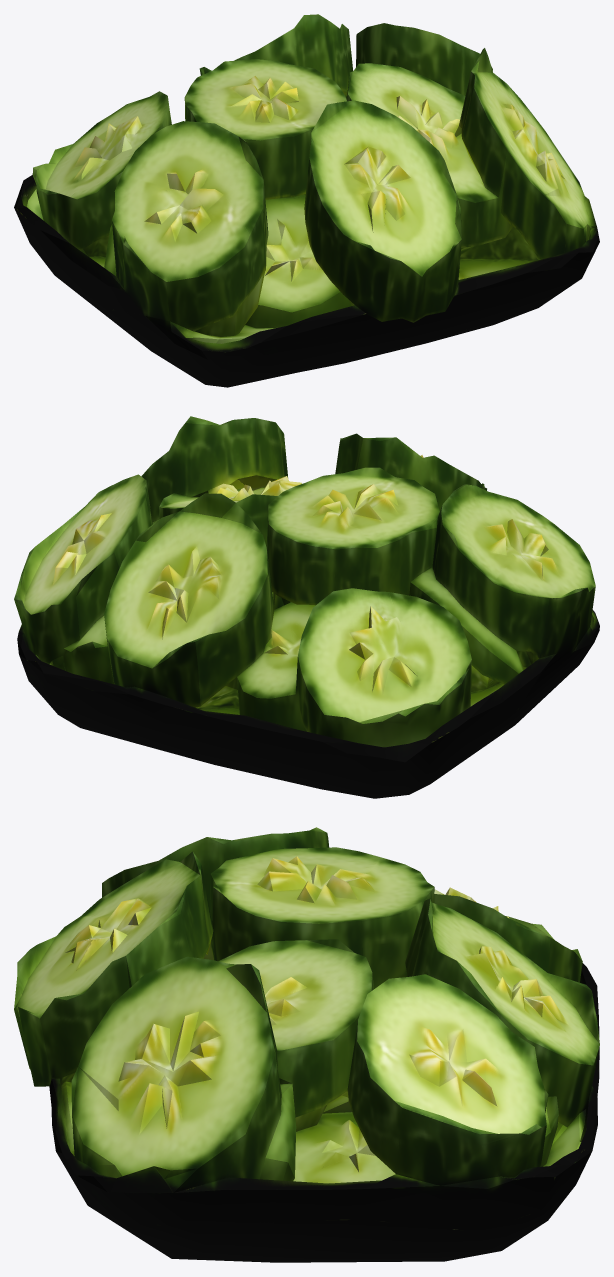
File: Cucumber.glb
3 renders of one model, top to bottom at view 1: azimuth 30°, elevation 25°; view 2: azimuth 150°, elevation 25°; view 3: azimuth 270°, elevation 25°, orthographic. The views are drawn at different scales.
Visible parts, largest first — view 1: geometry_0; view 2: geometry_0; view 3: geometry_0.
Part boxes in pixels (left/top/right/bottom): geometry_0: left=14, top=14, right=599, bottom=387; geometry_0: left=14, top=416, right=599, bottom=798; geometry_0: left=14, top=827, right=599, bottom=1262.
Bounding box in the file's own units: 0.15 × 0.08 × 0.14.
Materials: 1 (1 with a texture image).
